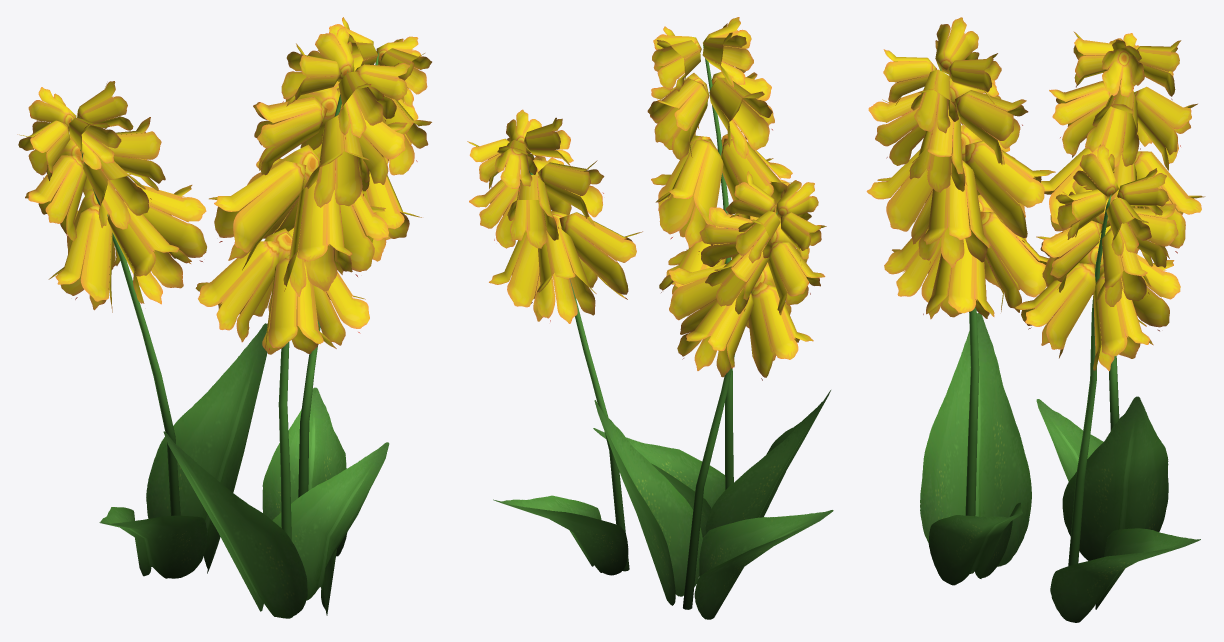
Rendered from Flower_4_Group.glb.
3 views of the same model, side by side, from view 1: azimuth 30°, elevation 25°; view 2: azimuth 150°, elevation 25°; view 3: azimuth 270°, elevation 25° (orthographic). The views are drawn at different scales.
Parts seen in each view (by area): view 1: Flower_4_Group; view 2: Flower_4_Group; view 3: Flower_4_Group.
Part boxes in pixels (x1,y1,x2,y2): Flower_4_Group: (17, 17, 431, 618); Flower_4_Group: (467, 17, 833, 619); Flower_4_Group: (866, 17, 1205, 622).
Bounding box in the file's own units: 1.78 × 2.49 × 1.37.
Materials: 2 (2 with a texture image).
